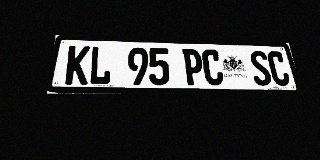5: (149, 48, 170, 85)
9: (128, 47, 149, 85)
C: (266, 51, 291, 86), (201, 49, 224, 86)
K: (65, 45, 90, 85)
L: (88, 46, 112, 85)
P: (182, 49, 204, 85)
S: (248, 51, 273, 86)
